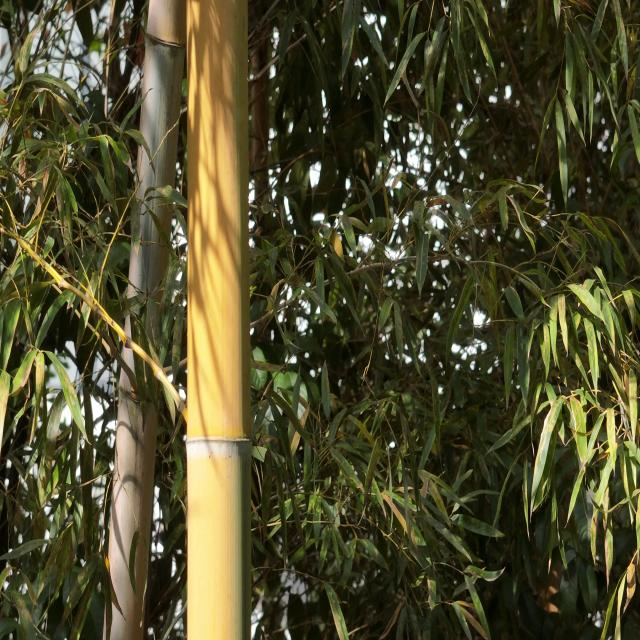Bamboo-shoots: (187, 0, 250, 640)
